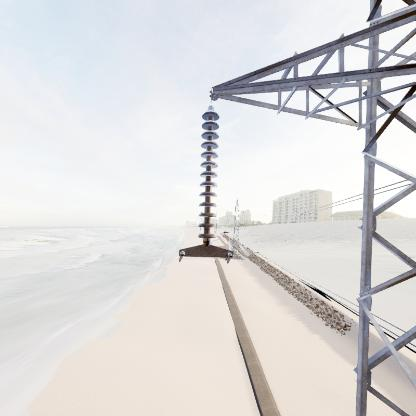insulator: (196, 107, 221, 243)
